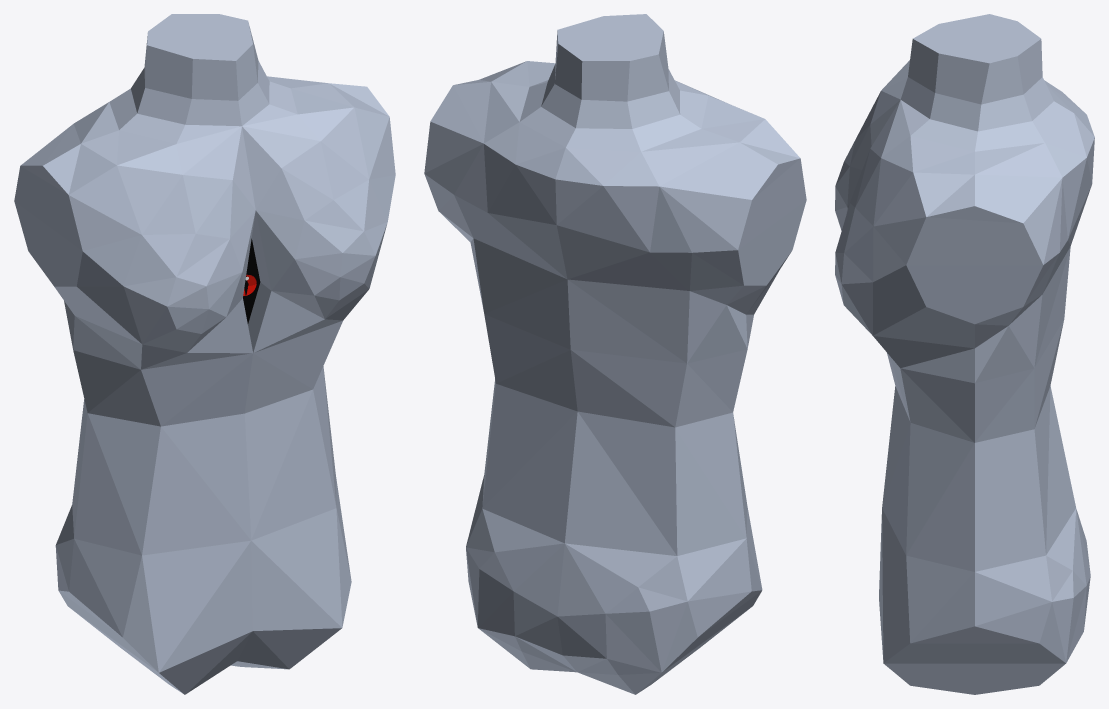
File: tenki.fbx
The picture shows the model from 3 angles, left to right: view 1: azimuth 30°, elevation 25°; view 2: azimuth 150°, elevation 25°; view 3: azimuth 270°, elevation 25°; orthographic projection.
Parts seen in each view (by area): view 1: body; view 2: body; view 3: body.
Boxes of the visible parts, box(x1,y1,x2,y2) form: body: box(14, 14, 395, 694); body: box(424, 14, 806, 694); body: box(835, 14, 1094, 694).
Bounding box in the file's own units: 191 × 359 × 133.
Materials: 2 (1 with a texture image).
